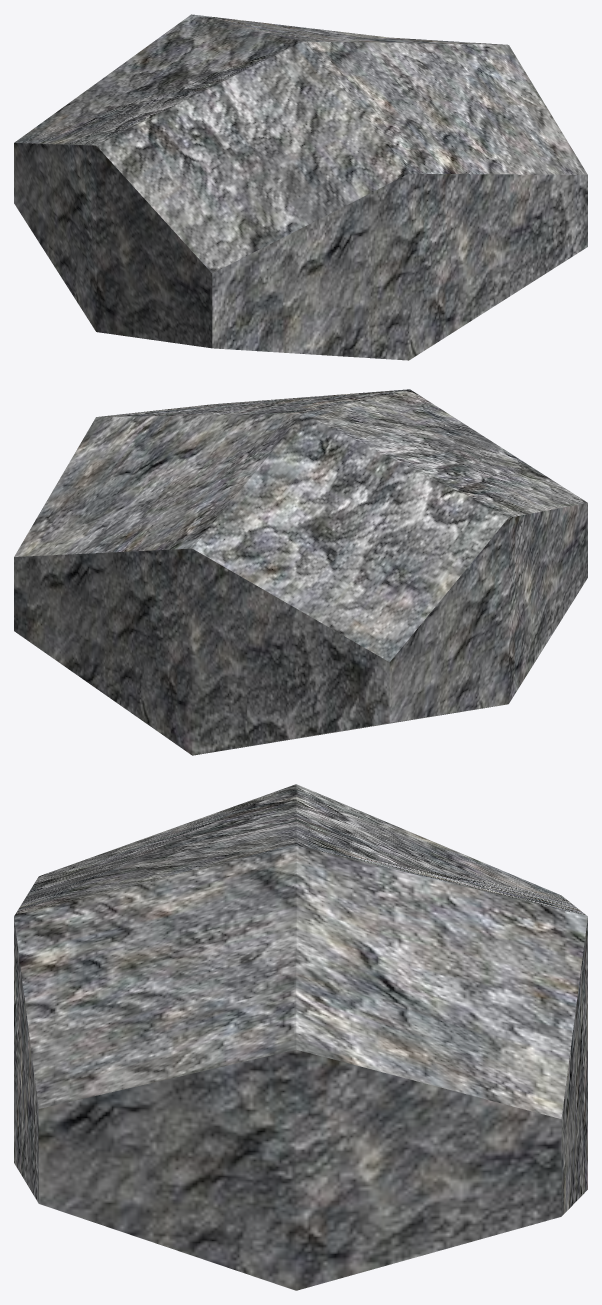
File: rock(single)Textured.FBX
3 views of the same model, one above another, from view 1: azimuth 30°, elevation 25°; view 2: azimuth 150°, elevation 25°; view 3: azimuth 270°, elevation 25° (orthographic). The views are drawn at different scales.
Parts seen in each view (by area): view 1: Rocks; view 2: Rocks; view 3: Rocks.
Part boxes in pixels (x1,y1,x2,y2): Rocks: [14, 14, 587, 360]; Rocks: [14, 389, 587, 755]; Rocks: [14, 784, 587, 1290].
Size of the model in its own units: 7.3 by 6.67 by 4.41.
Materials: 1 (1 with a texture image).
